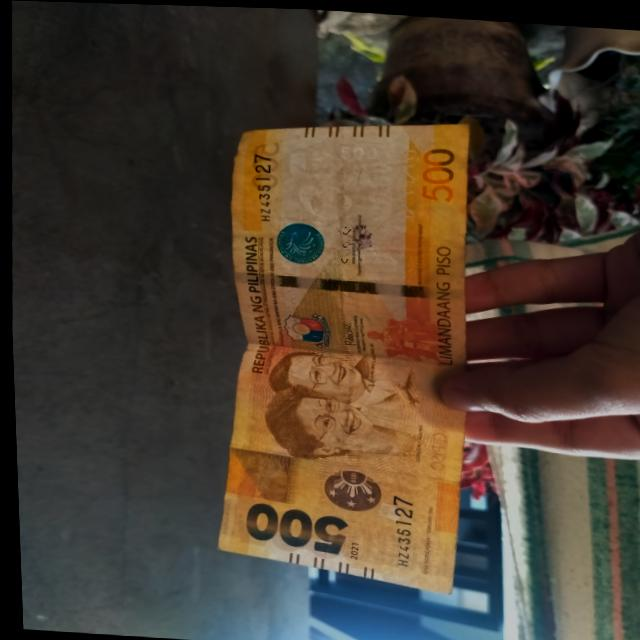concealed_value: (215, 441, 298, 506)
optically_variable_device: (302, 458, 393, 521)
security_thread: (234, 267, 460, 298)
see_through_mark: (395, 130, 429, 220)
serial_number: (238, 149, 282, 229), (384, 489, 421, 572)
watermark: (268, 140, 415, 230)
